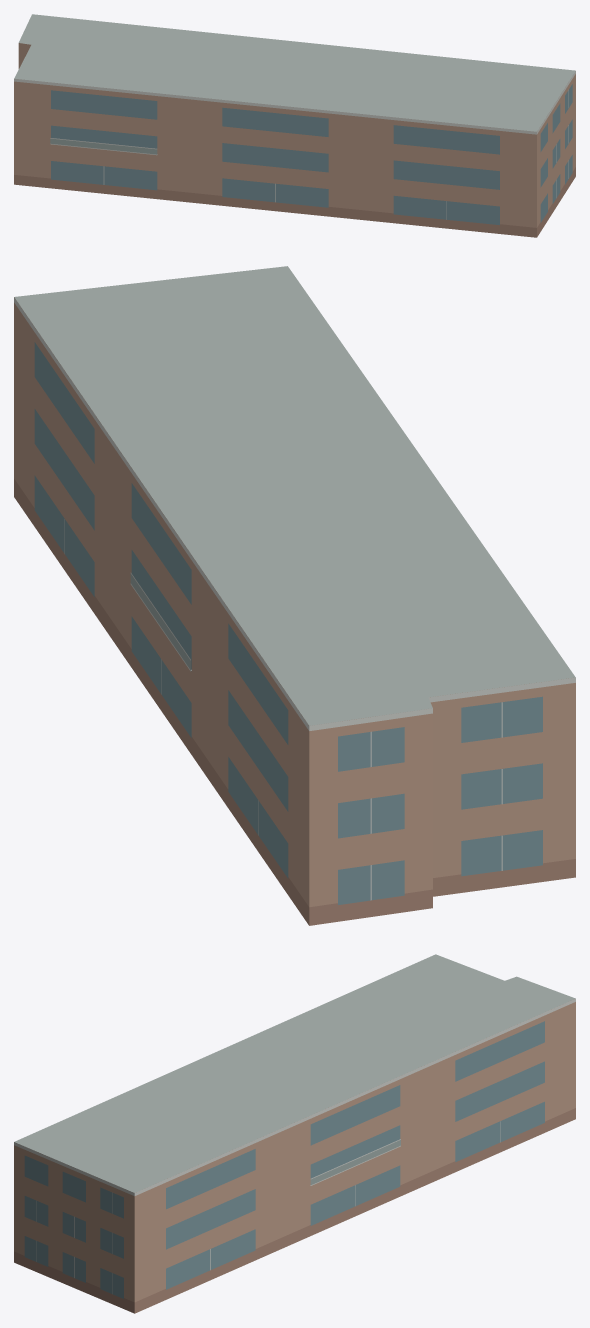
File: survey-upis-32734407.glb
3 views of the same model, one above another, from view 1: azimuth 30°, elevation 25°; view 2: azimuth 150°, elevation 25°; view 3: azimuth 270°, elevation 25° (orthographic). The views are drawn at different scales.
Parts seen in each view (by area): view 1: survey-upis-32734407.tmp; view 2: survey-upis-32734407.tmp; view 3: survey-upis-32734407.tmp.
Boxes of the visible parts, x1=… form: survey-upis-32734407.tmp: x1=14, y1=14, x2=575, y2=237; survey-upis-32734407.tmp: x1=14, y1=266, x2=575, y2=925; survey-upis-32734407.tmp: x1=14, y1=954, x2=575, y2=1313.
Bounding box in the file's own units: 38.85 × 9.15 × 38.64.
